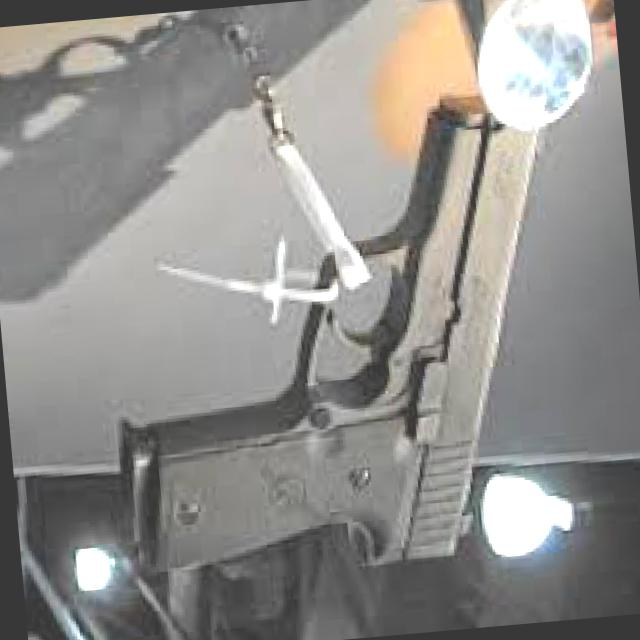handgun: (101, 68, 603, 582)
